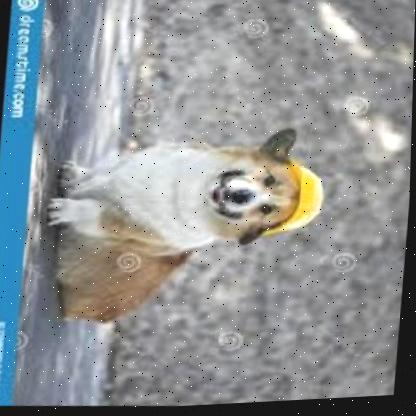dog: (36, 111, 327, 338)
